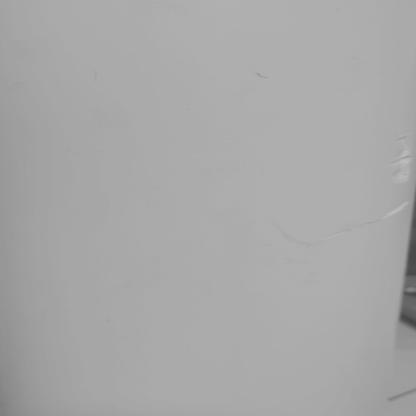sunshang: (273, 191, 409, 245), (392, 133, 413, 185)
